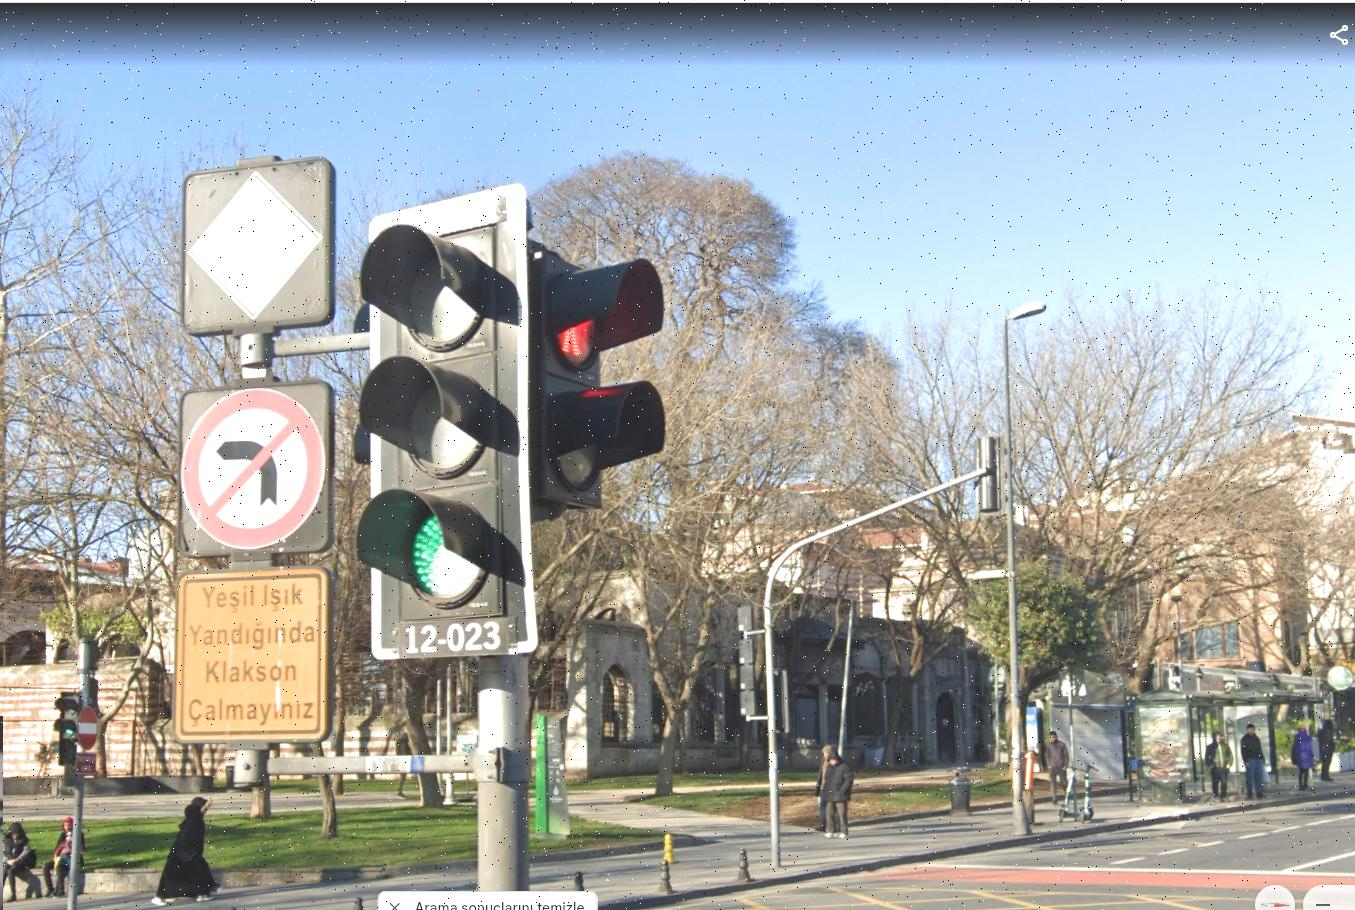greenlight: (366, 207, 521, 634)
leftturnsareforbidden: (185, 396, 324, 549)
